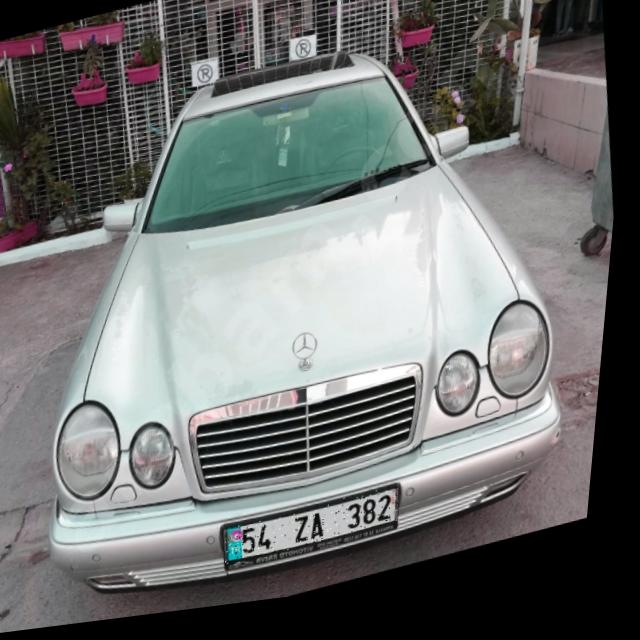license_plate: (231, 495, 413, 574)
